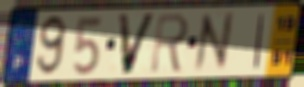5: (70, 14, 107, 76)
9: (34, 14, 70, 79)
I: (251, 12, 267, 70)
N: (193, 9, 236, 75)
R: (148, 12, 192, 76)
V: (116, 11, 159, 77)
